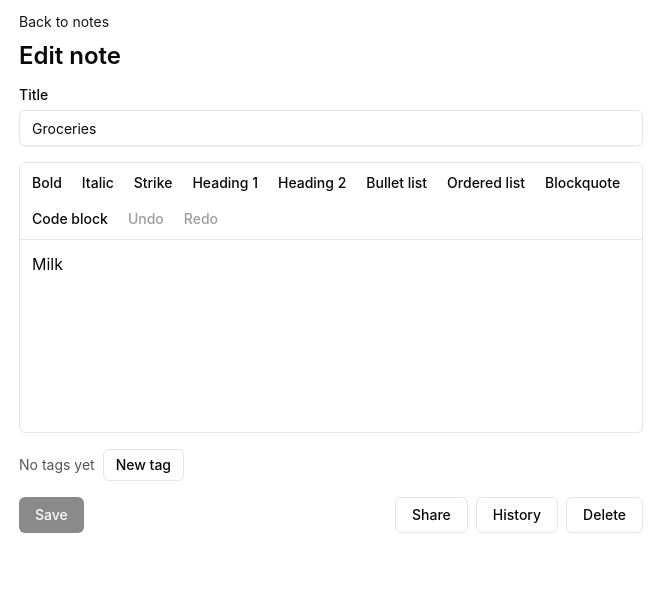
Create and attach a tag › Name is trimmed before sending
Expected: the field named "Note content" is shown, x1=32 y1=254 x2=63 y2=274
Click the button "New tag" at point(143, 465), box x1=103 y1=449 x2=184 y2=481
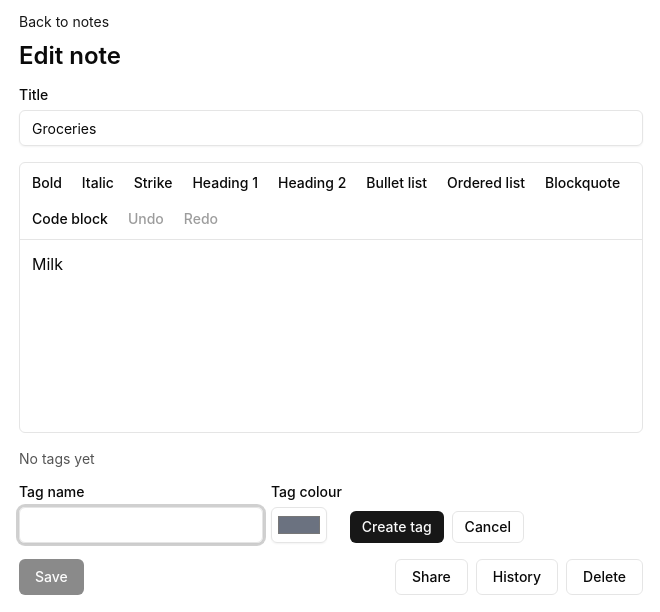
Type "  Work  " into the field labelled "Tag name" at point(141, 525), box x1=19 y1=507 x2=263 y2=543
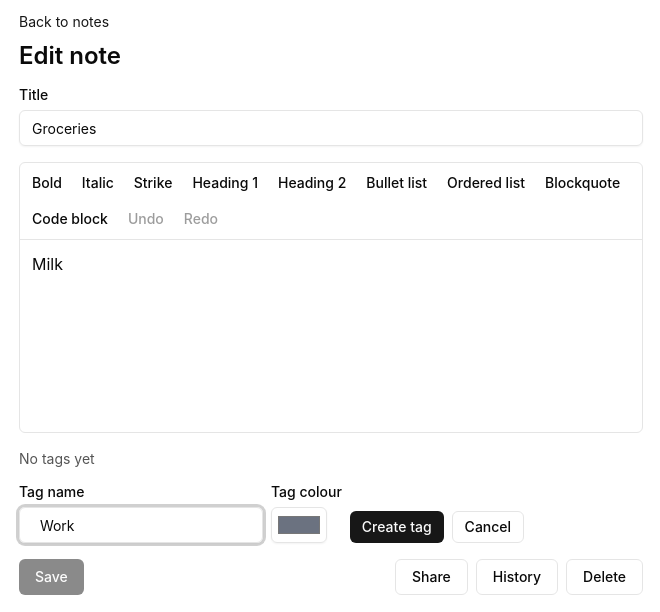
Click the button "Create tag" at point(397, 527), box x1=350 y1=511 x2=444 y2=543
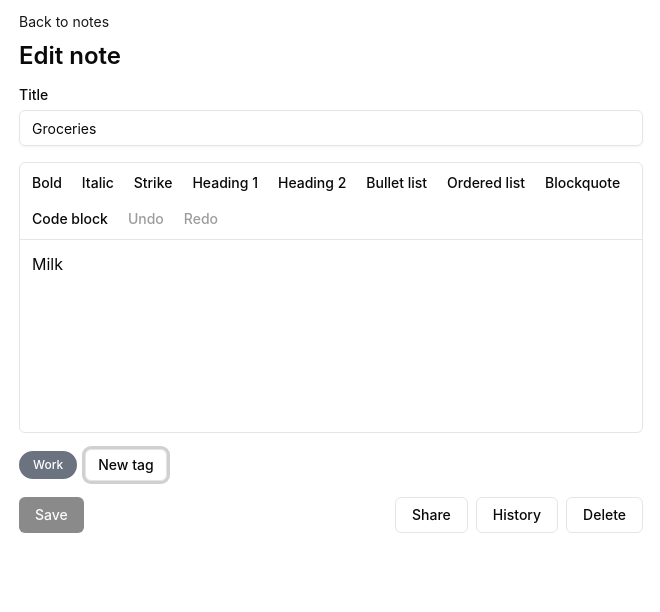
Expected: the button "Work" is shown, x1=19 y1=451 x2=77 y2=479
